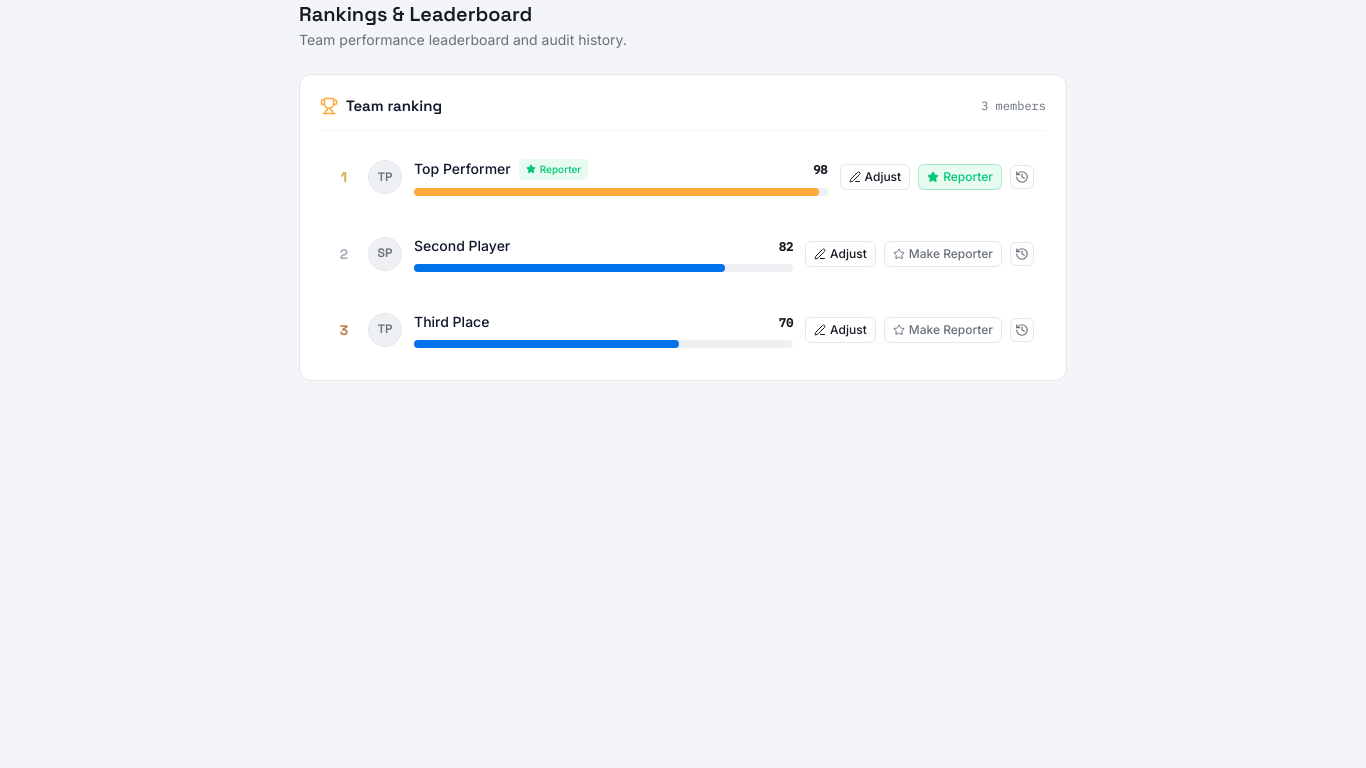
it: Rankings Screen › allows Manager to open audit history modal and displays audit entries
Click the button titled "View audit history" in the row of "98". click: (1022, 177)
box: 1010,165 -> 1034,189
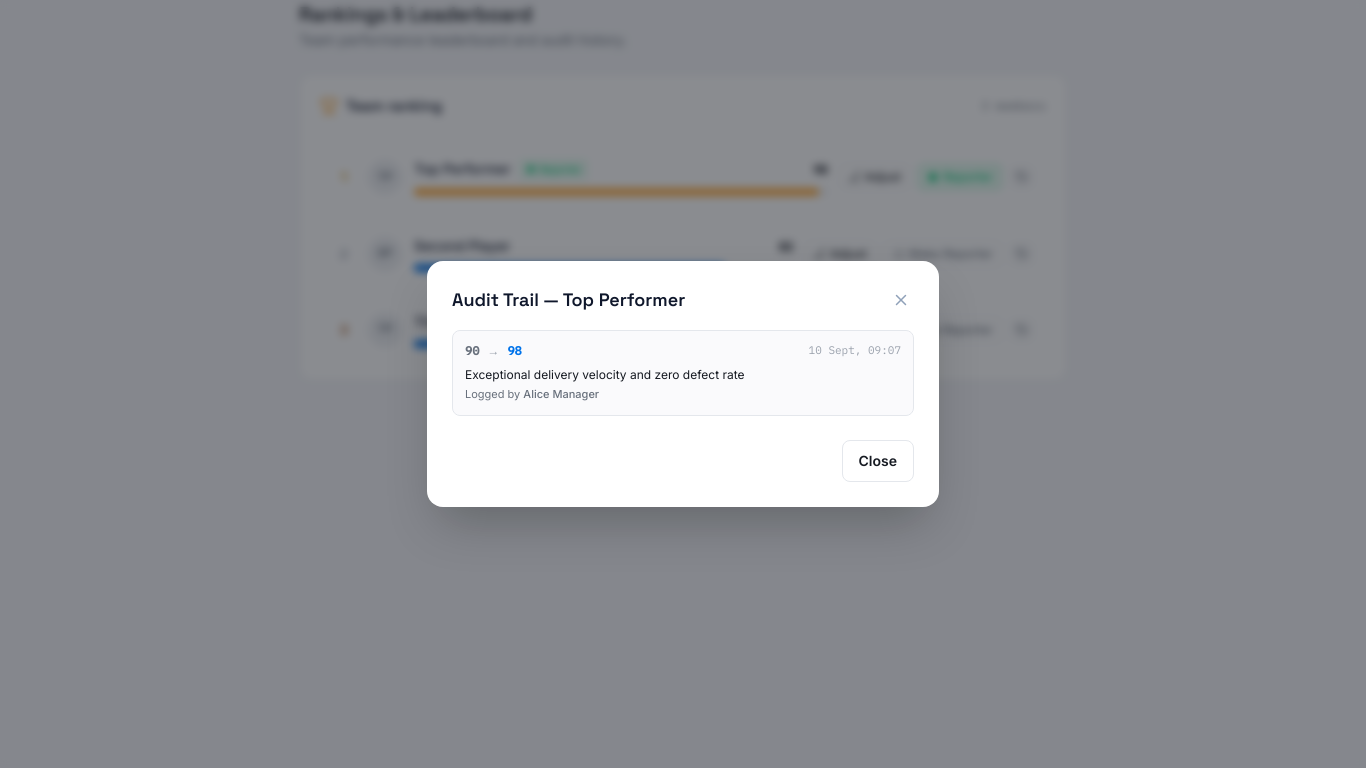
Now the heading "Audit Trail — Top Performer" is shown, box 452,286 -> 685,314
Now the text "Exceptional delivery velocity and zero defect rate" is shown, box 465,367 -> 744,382
Now the text "Alice Manager" is shown, box 523,387 -> 599,401
